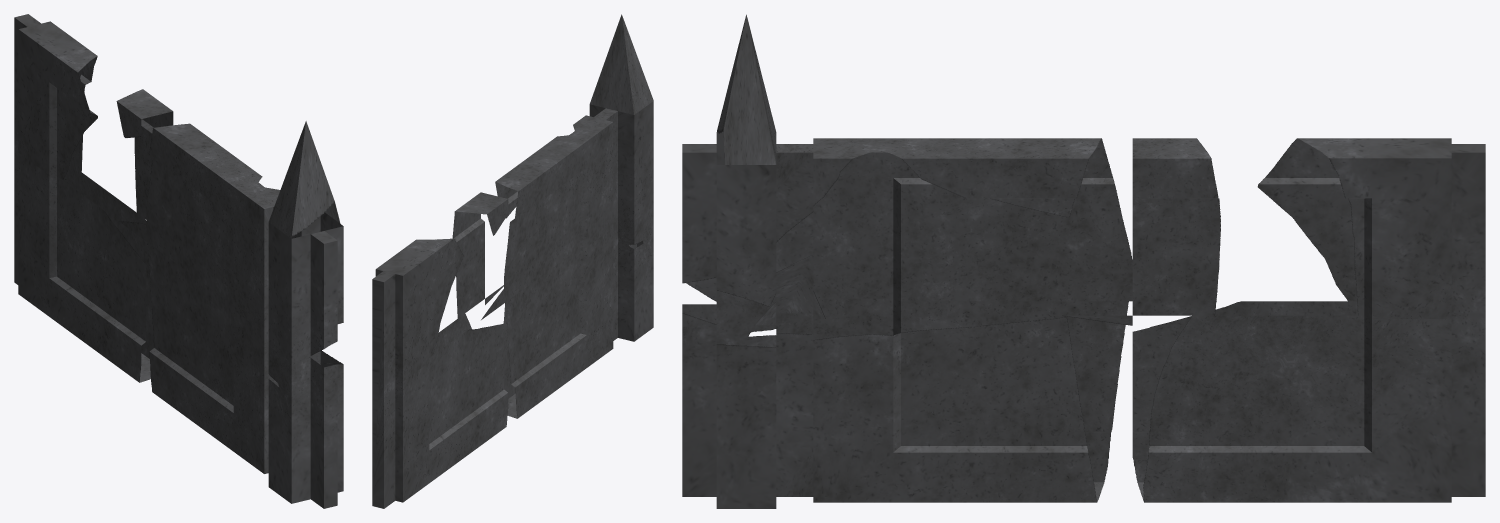
File: wall_corner.fbx
3 views of the same model, side by side, from view 1: azimuth 30°, elevation 25°; view 2: azimuth 150°, elevation 25°; view 3: azimuth 270°, elevation 25° (orthographic). The views are drawn at different scales.
Parts seen in each view (by area): view 1: wall_corner; view 2: wall_corner; view 3: wall_corner.
Part boxes in pixels (x1,y1,x2,y2): wall_corner: [14, 14, 343, 508]; wall_corner: [372, 14, 653, 508]; wall_corner: [682, 14, 1485, 508].
Bounding box in the file's own units: 60.61 × 410 × 624.
